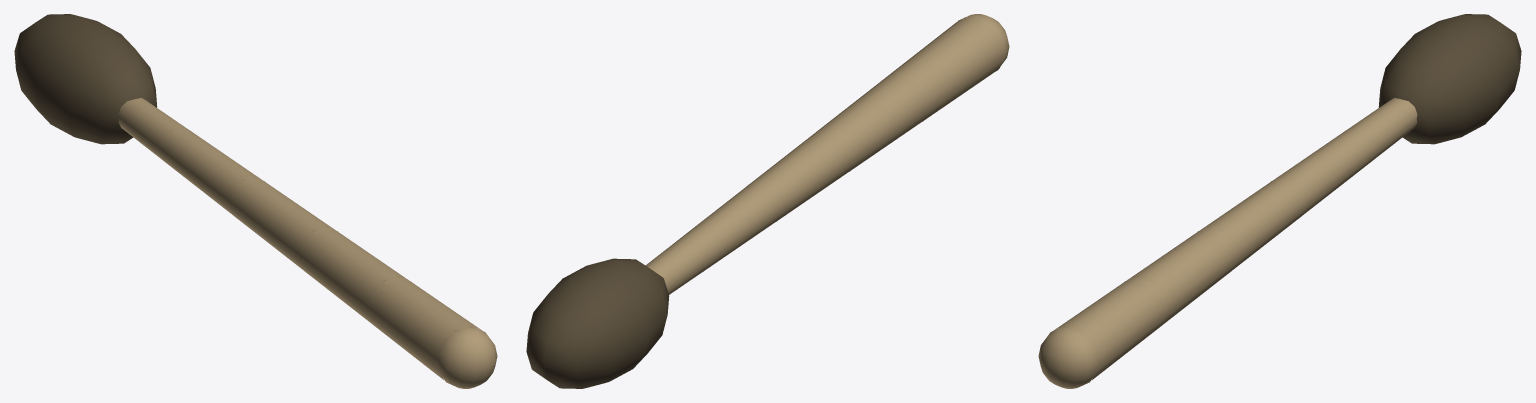
Rendered from giraffe_tail.glb.
3 views of the same model, side by side, from view 1: azimuth 30°, elevation 25°; view 2: azimuth 150°, elevation 25°; view 3: azimuth 330°, elevation 25° (orthographic).
Parts seen in each view (by area): view 1: giraffe_tail_seg05, giraffe_tail_seg01, giraffe_tail_seg02, giraffe_tail_seg03, giraffe_tail_seg04; view 2: giraffe_tail_seg05, giraffe_tail_seg01, giraffe_tail_seg02, giraffe_tail_seg03, giraffe_tail_seg04; view 3: giraffe_tail_seg05, giraffe_tail_seg01, giraffe_tail_seg02, giraffe_tail_seg03, giraffe_tail_seg04.
Part boxes in pixels (<box>): giraffe_tail_seg05: <box>14,14,191,160</box>; giraffe_tail_seg01: <box>368,277,497,388</box>; giraffe_tail_seg02: <box>299,227,412,323</box>; giraffe_tail_seg03: <box>229,177,338,269</box>; giraffe_tail_seg04: <box>160,127,264,214</box>; giraffe_tail_seg05: <box>526,236,708,388</box>; giraffe_tail_seg01: <box>885,14,1009,119</box>; giraffe_tail_seg02: <box>816,70,931,170</box>; giraffe_tail_seg03: <box>746,125,857,220</box>; giraffe_tail_seg04: <box>677,181,783,271</box>; giraffe_tail_seg05: <box>1344,14,1521,160</box>; giraffe_tail_seg01: <box>1038,277,1167,388</box>; giraffe_tail_seg02: <box>1123,227,1236,323</box>; giraffe_tail_seg03: <box>1197,177,1306,269</box>; giraffe_tail_seg04: <box>1271,127,1375,214</box>.
Bounding box in the file's own units: 0.1437 × 0.1437 × 1.13.
1 material, 1 textured.
